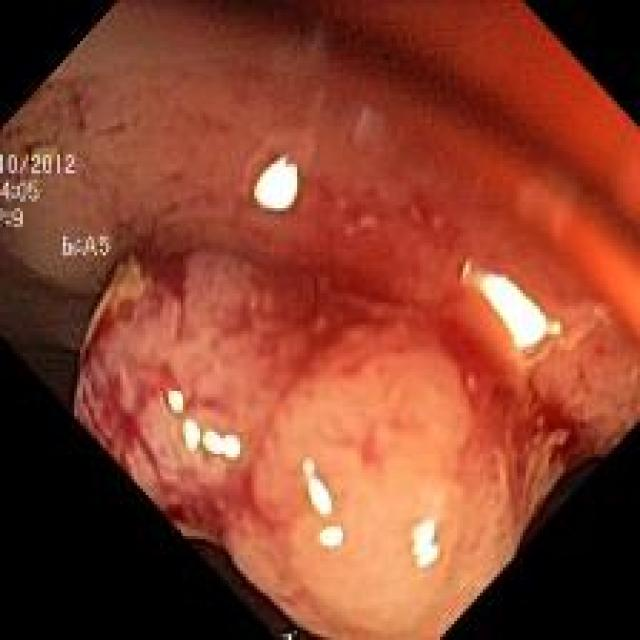Polyps: (75, 252, 518, 640)
